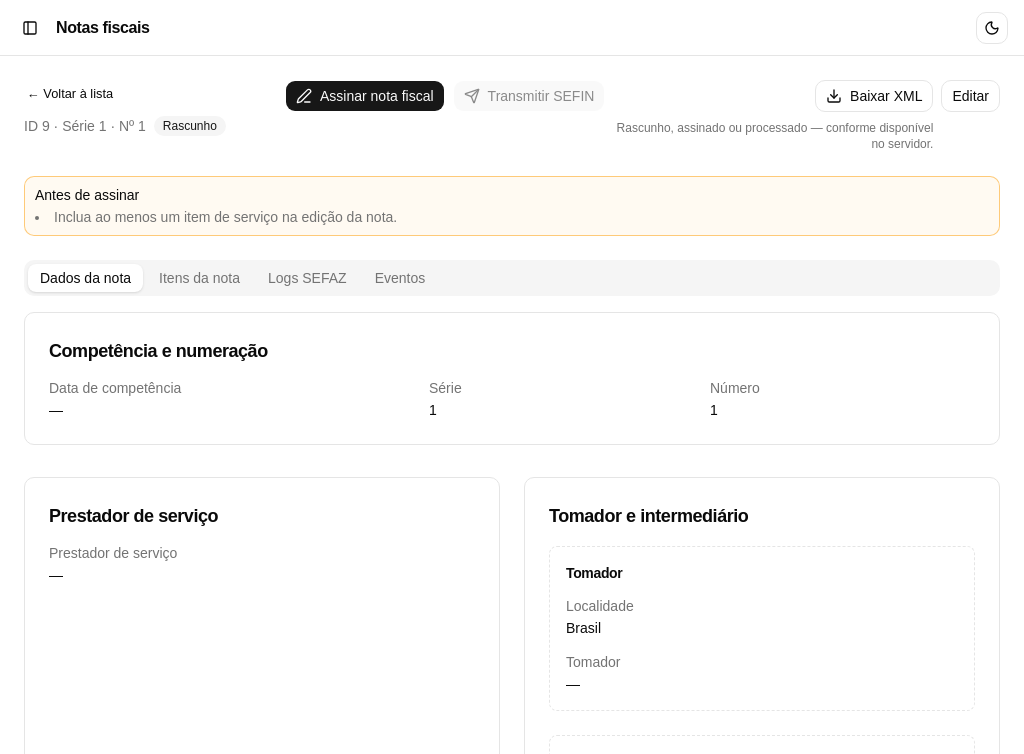
Test: Resource pages › shows read-only SEFAZ logs on documento show without add form
Click the tab "Logs SEFAZ". click: (307, 278)
box: 256,264 -> 359,292
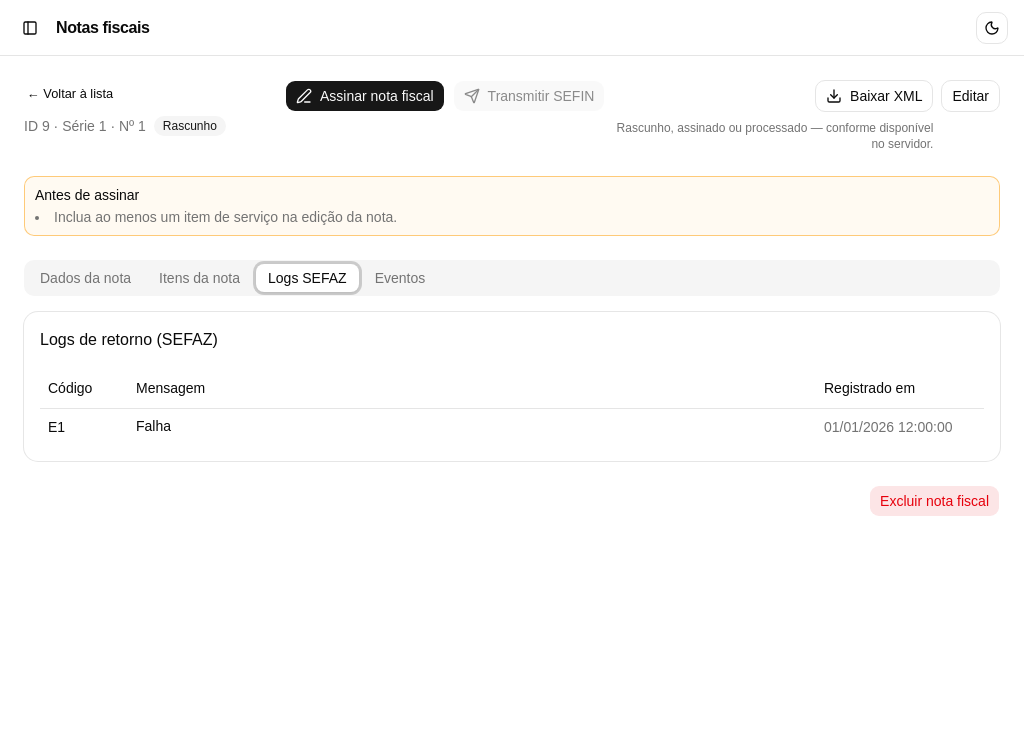
Expected: the text "E1" is shown, 40,408 -> 128,444
Expected: the column heading "Mensagem" is shown, 128,368 -> 816,408
Expected: the column heading "Registrado em" is shown, 816,368 -> 984,408
